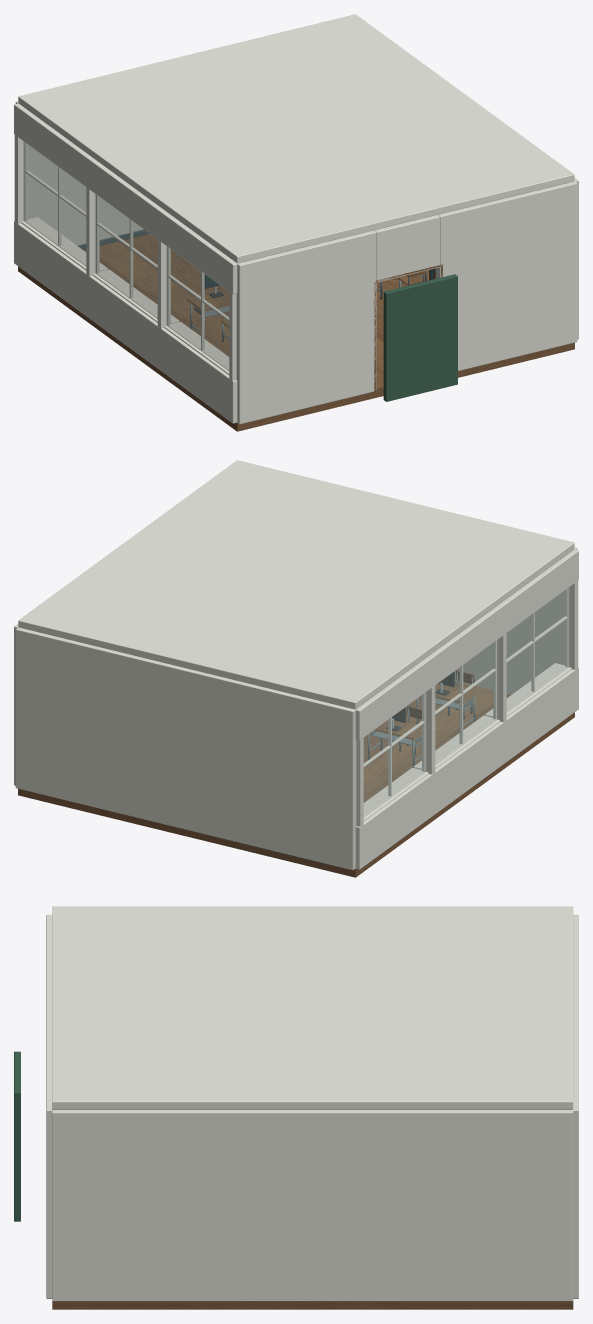
3 renders of one model, top to bottom at view 1: azimuth 30°, elevation 25°; view 2: azimuth 150°, elevation 25°; view 3: azimuth 270°, elevation 25°, orthographic. The views are drawn at different scales.
Visible parts, largest first — view 1: 3-4__architecture_and_equipment; view 2: 3-4__architecture_and_equipment; view 3: 3-4__architecture_and_equipment.
Part boxes in pixels (<box>): 3-4__architecture_and_equipment: <box>14,14,578,431</box>; 3-4__architecture_and_equipment: <box>14,460,578,877</box>; 3-4__architecture_and_equipment: <box>14,906,578,1309</box>.
Size of the model in its own units: 8.2 by 3.96 by 9.76.
Materials: 14 (1 with a texture image).
